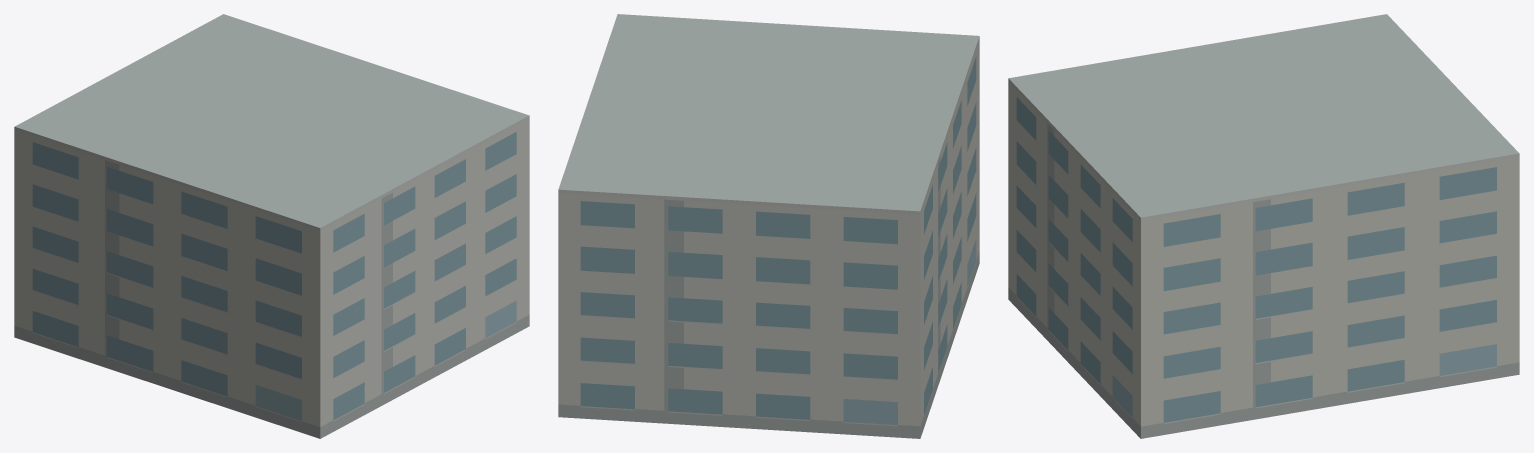
Rendered from residential-e2eaf7bf-a751-4746-9251-f73c70c89efc.glb.
3 views of the same model, side by side, from view 1: azimuth 30°, elevation 25°; view 2: azimuth 150°, elevation 25°; view 3: azimuth 270°, elevation 25° (orthographic). The views are drawn at different scales.
Visible parts, largest first — view 1: residential-e2eaf7bf-a751-4746-9251-f73c70c89efc.tmp; view 2: residential-e2eaf7bf-a751-4746-9251-f73c70c89efc.tmp; view 3: residential-e2eaf7bf-a751-4746-9251-f73c70c89efc.tmp.
Part boxes in pixels (x1,y1,x2,y2): residential-e2eaf7bf-a751-4746-9251-f73c70c89efc.tmp: (14,14,529,438); residential-e2eaf7bf-a751-4746-9251-f73c70c89efc.tmp: (558,14,979,438); residential-e2eaf7bf-a751-4746-9251-f73c70c89efc.tmp: (1008,14,1519,438).
Size of the model in its own units: 30.12 by 15.25 by 31.94.
